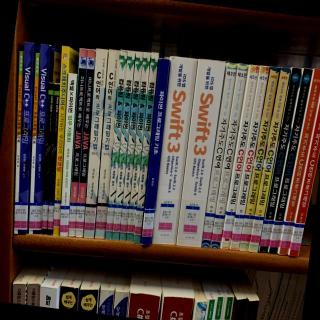book-spine: (174, 58, 226, 248), (150, 56, 197, 246), (268, 68, 312, 254), (277, 68, 320, 256), (258, 67, 301, 253), (248, 67, 290, 253), (238, 67, 280, 252), (229, 65, 270, 251), (219, 64, 259, 251), (210, 63, 247, 249), (201, 62, 237, 248), (93, 49, 121, 239), (141, 59, 169, 246), (125, 52, 151, 241), (289, 102, 320, 258), (133, 52, 158, 243), (83, 49, 107, 238), (119, 52, 143, 241), (105, 49, 128, 240), (112, 51, 135, 241), (75, 49, 96, 237), (67, 48, 87, 237), (17, 42, 34, 234), (32, 44, 49, 234), (52, 46, 68, 236), (59, 73, 77, 237), (47, 83, 60, 235), (41, 83, 54, 234), (29, 53, 39, 234), (14, 51, 23, 234)
